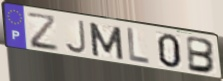0: (156, 33, 183, 70)
B: (185, 35, 217, 75)
J: (63, 19, 88, 55)
L: (126, 26, 151, 66)
M: (87, 21, 126, 62)
Z: (25, 11, 61, 53)
